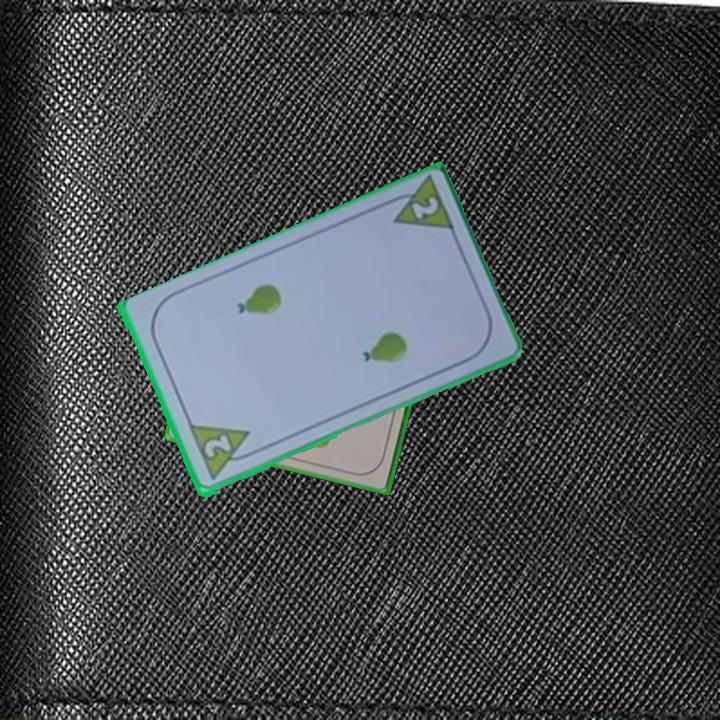2p: (200, 431, 234, 462), (407, 193, 441, 223)
